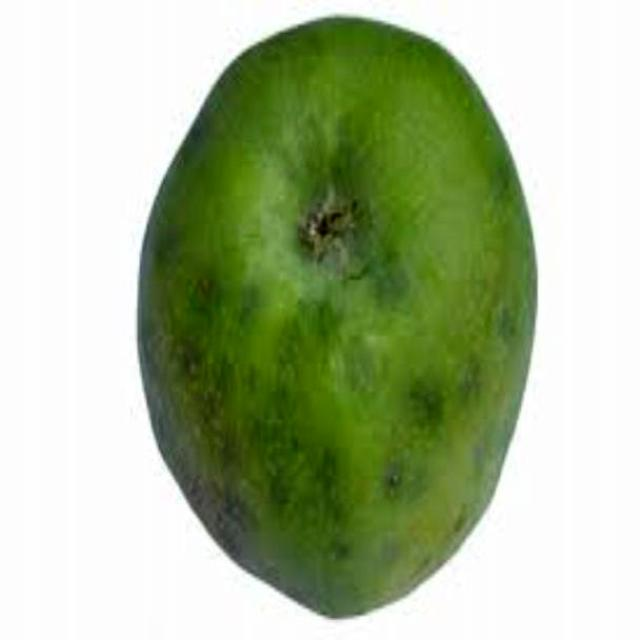BLOTCH: (104, 14, 578, 640)
